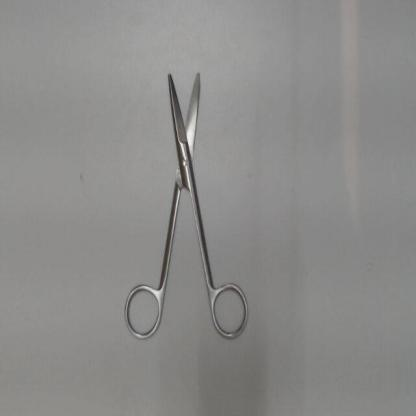Curved Mayo Scissors: (120, 65, 252, 348)
